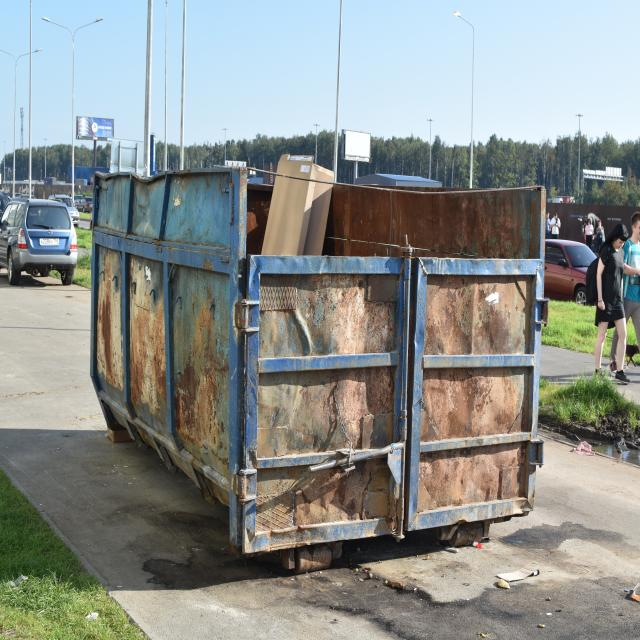entulho: (252, 450, 399, 550), (412, 428, 538, 526), (261, 154, 339, 256), (233, 299, 260, 333)
lixo domiciliar: (495, 562, 541, 592), (572, 436, 598, 458), (625, 577, 640, 604)
